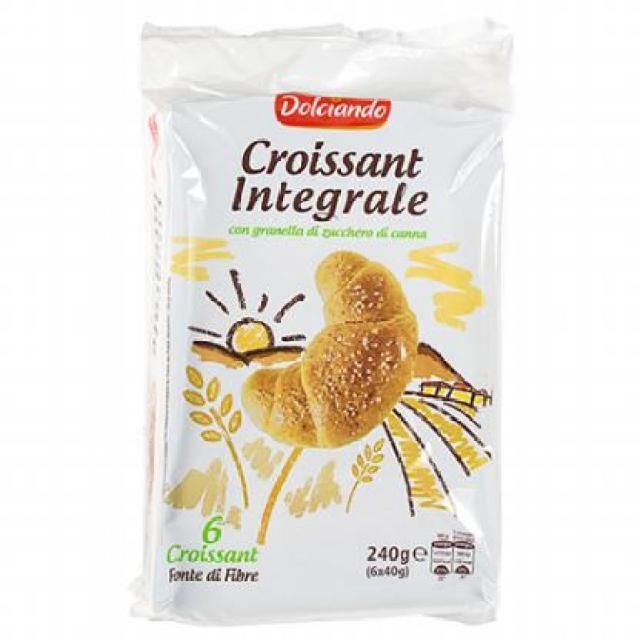Merendine: (126, 61, 520, 628)
